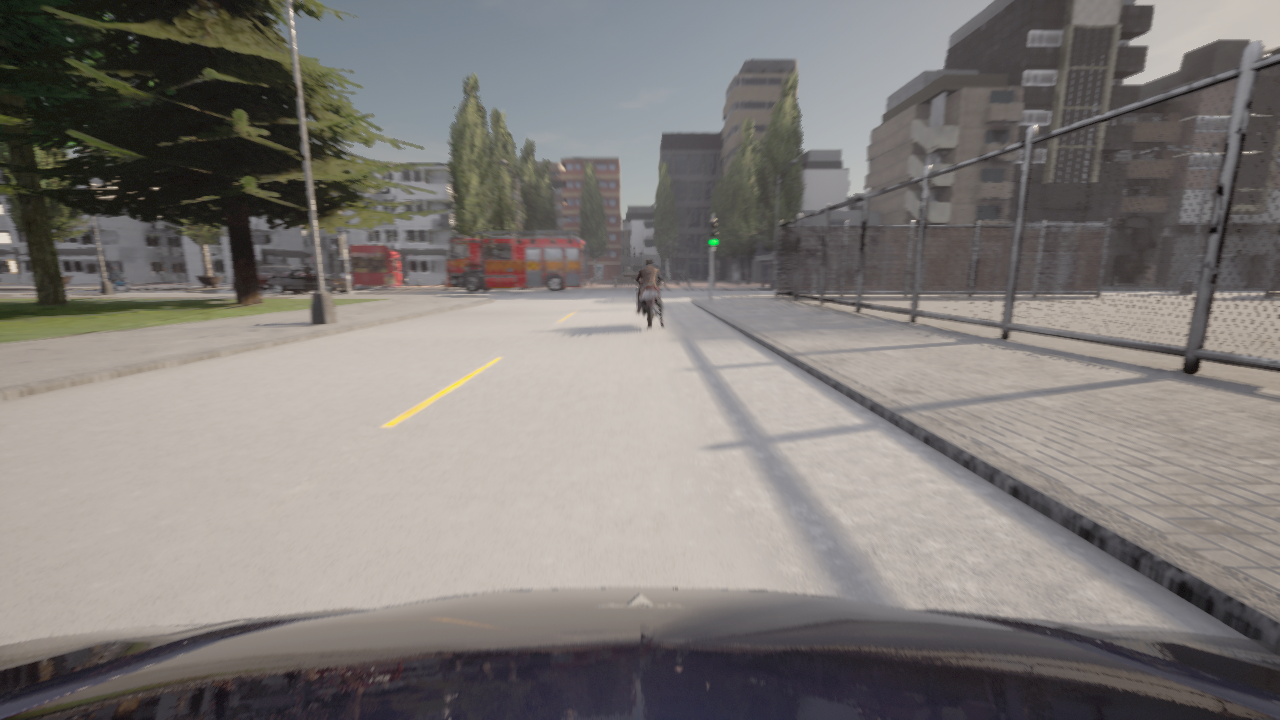cyclist: (0, 588, 1279, 719), (446, 231, 588, 292), (268, 269, 353, 293), (231, 265, 304, 290), (631, 278, 666, 329)
pedestrian: (1267, 263, 1279, 296)
